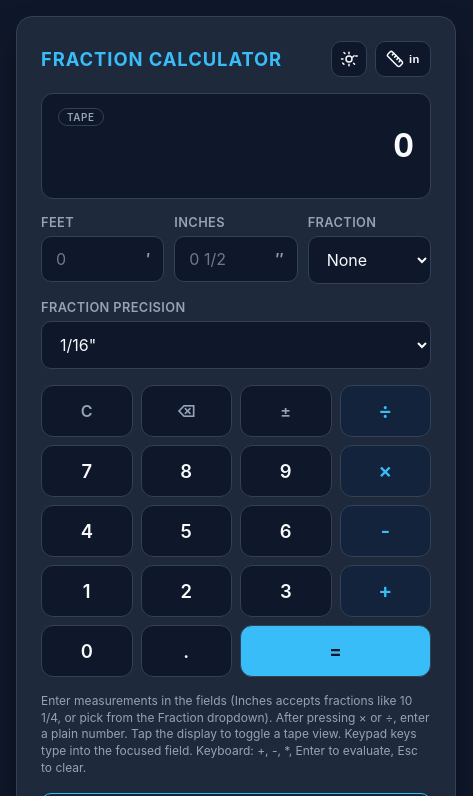
Scenario: imperial feet/inches input › enters a metric value
Click the button with aria-label "Switch to Metric" at [403, 59], box [375, 41, 431, 77]
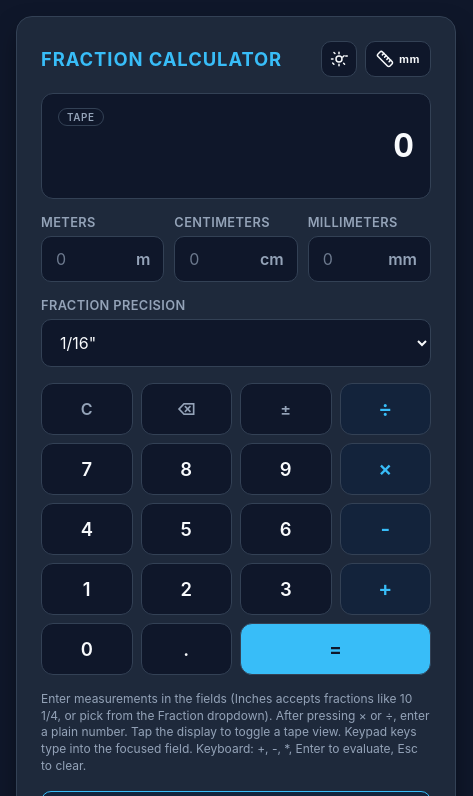
Type "2" into the field labelled "Meters" at [103, 259], box [41, 236, 164, 282]
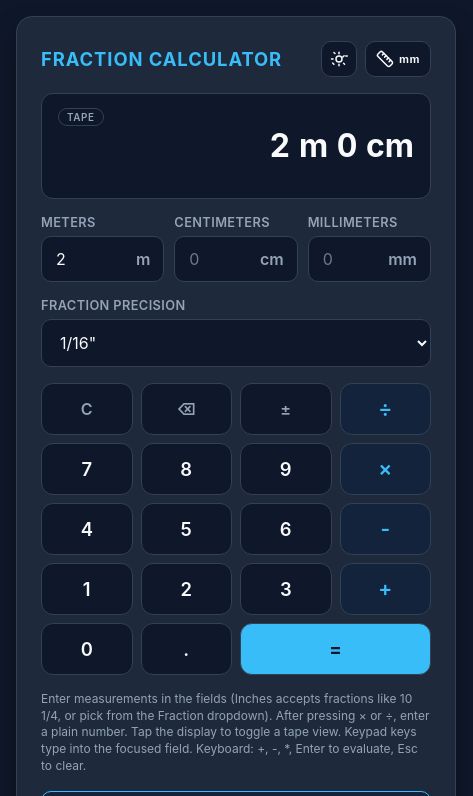
Check: the text with class "display-value" reads "2 m 0 cm", box [270, 126, 414, 165]
Type "50" into the field labelled "Centimeters" at [236, 259], box [174, 236, 298, 282]
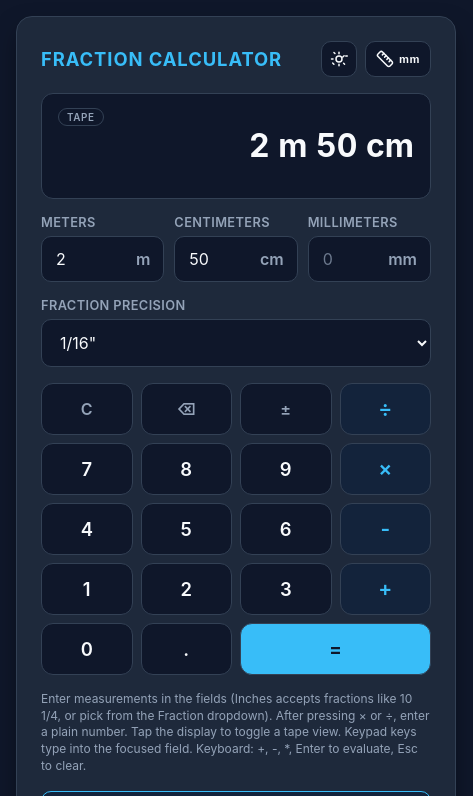
Check: the text with class "display-value" reads "2 m 50 cm", box [249, 126, 414, 165]
